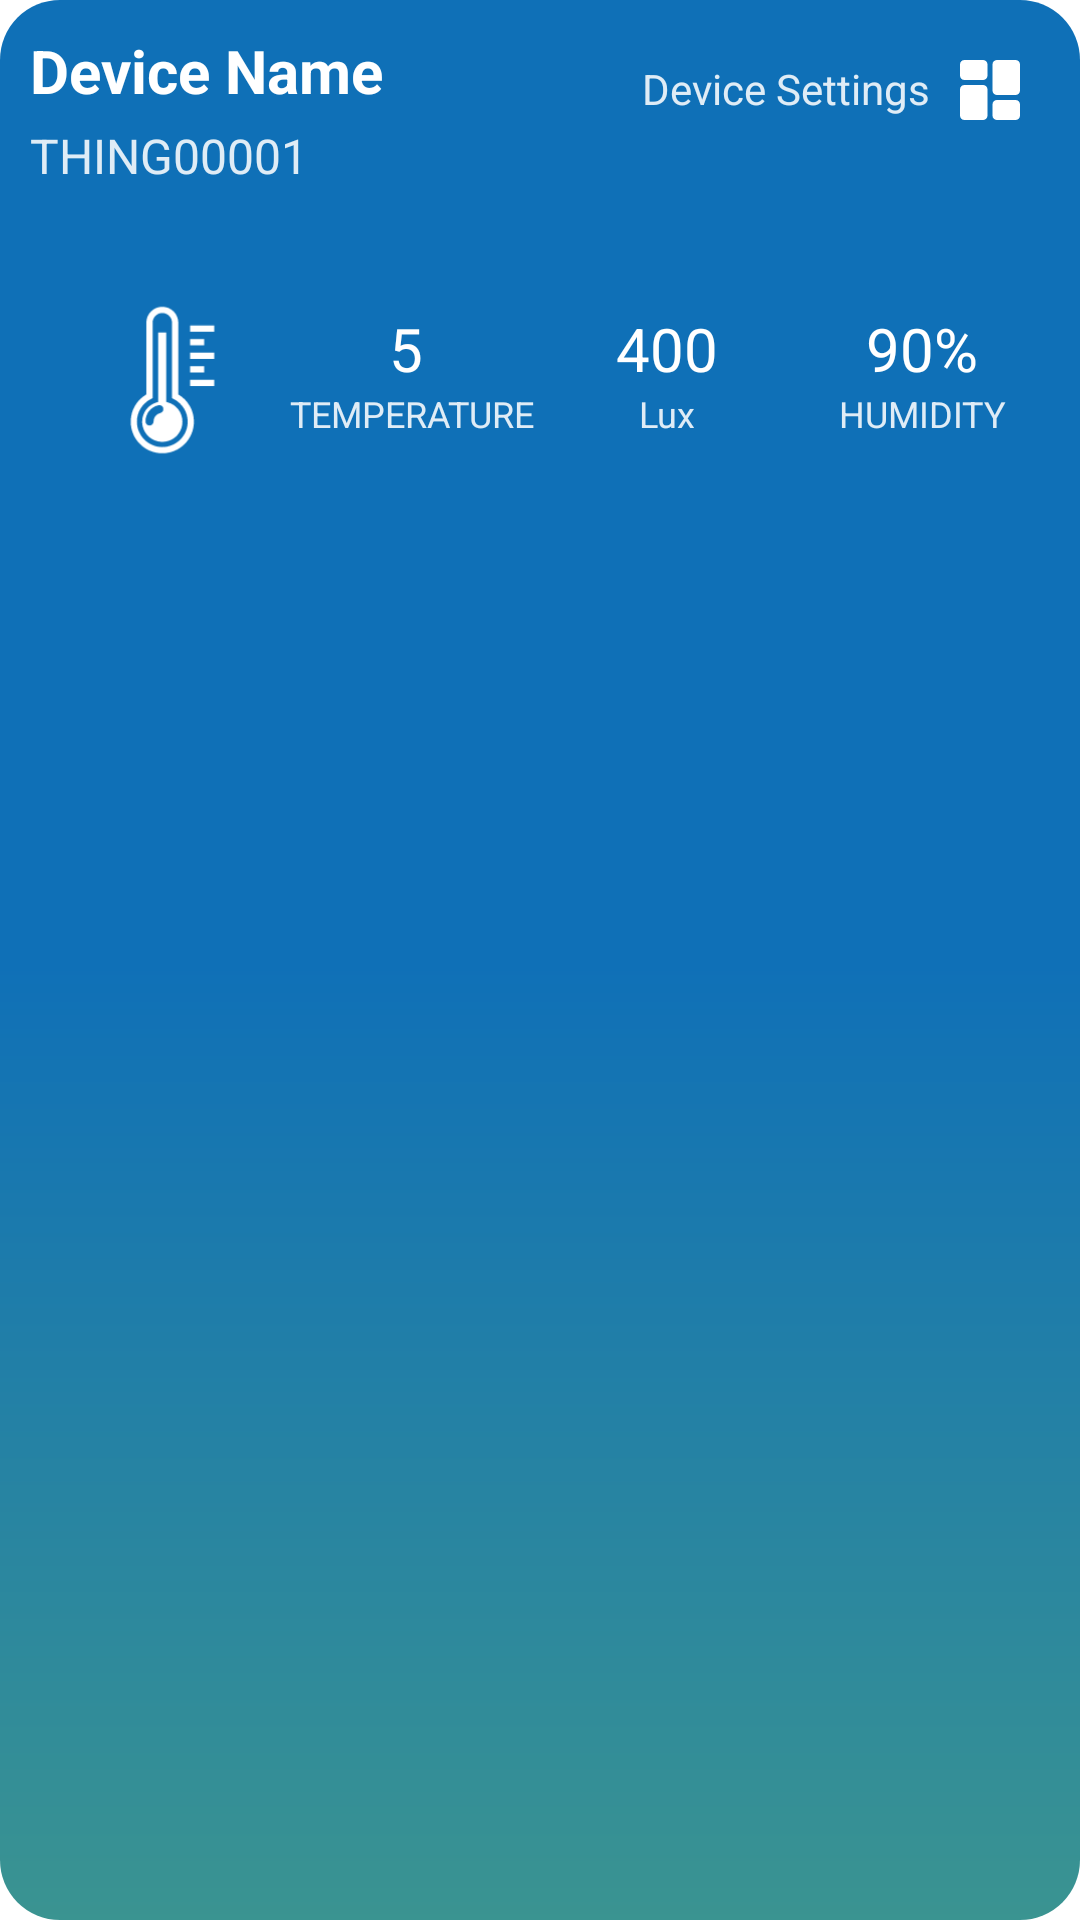

Where icons sit on this 1080 × 1920 app screen, as {"x1": x1, "y1": y1, "x2": x2, "y2": y2}:
all devices: {"x1": 960, "y1": 60, "x2": 1020, "y2": 120}
